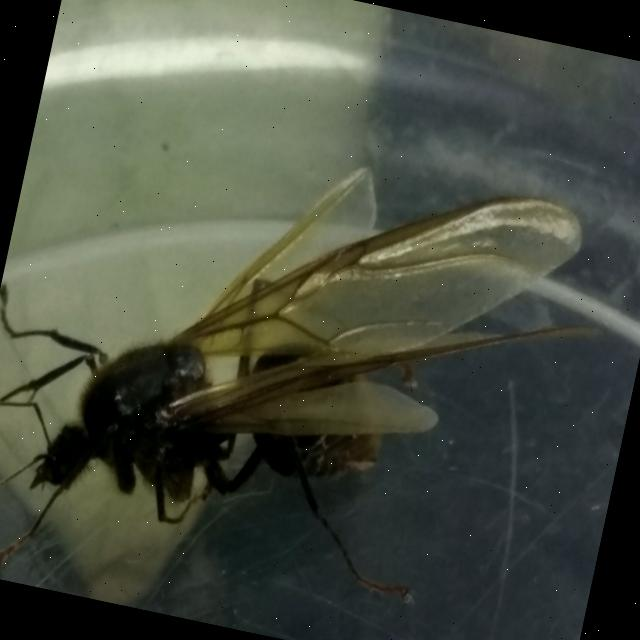Alive-Male-Alate: (0, 89, 628, 640)
